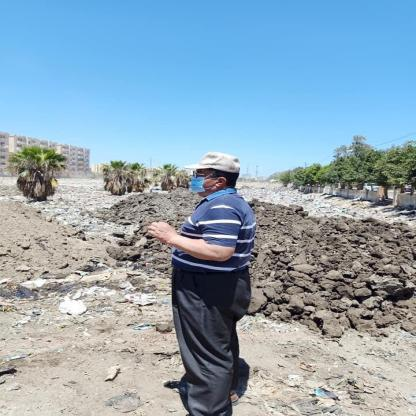person: (141, 150, 260, 408)
